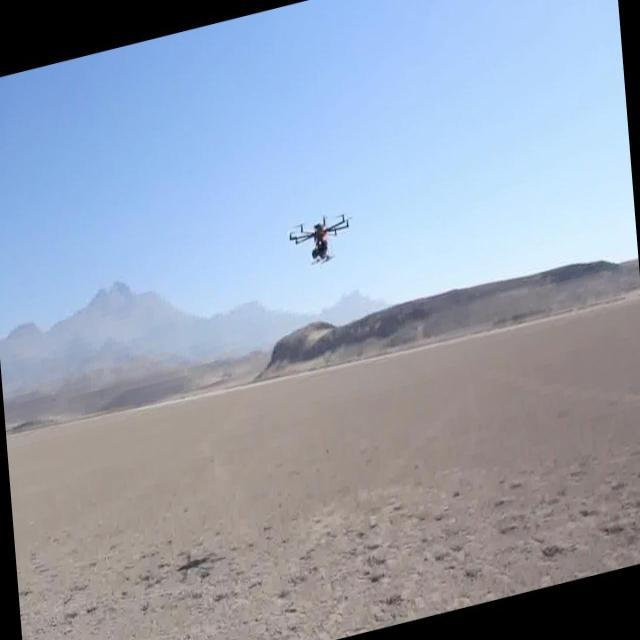drone: (286, 206, 354, 276)
